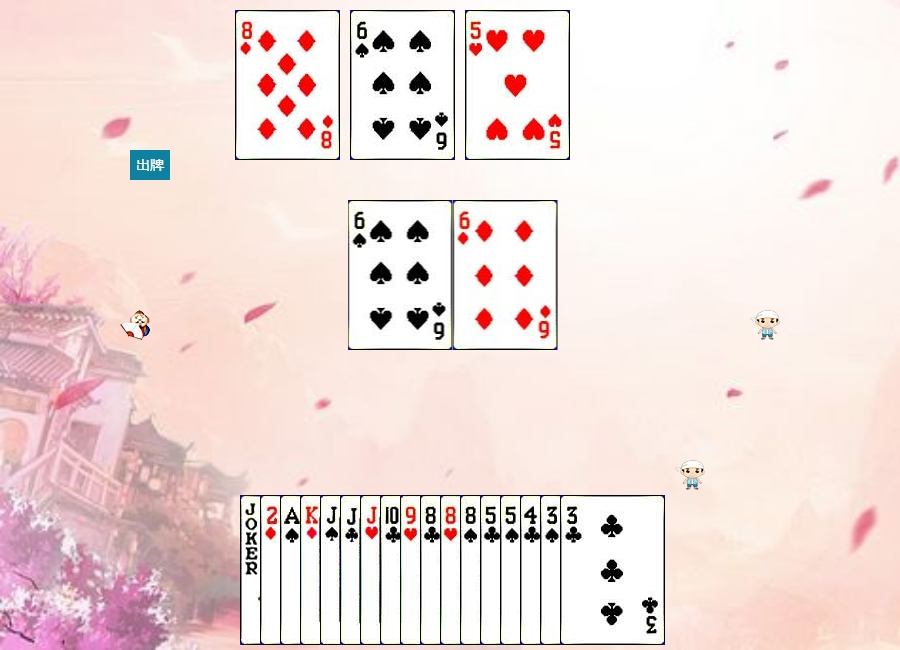10~2: (380, 495, 485, 645)
11~2: (340, 495, 445, 645)
11~3: (360, 495, 465, 645)
11~4: (320, 495, 425, 645)
13~1: (300, 495, 405, 645)
14~4: (280, 495, 385, 645)
15~1: (260, 495, 365, 645)
17~3: (240, 495, 345, 645)
3~2: (560, 495, 665, 645)
3~4: (540, 495, 645, 645)
4~2: (520, 495, 625, 645)
5~2: (480, 495, 585, 645)
5~3: (465, 10, 570, 160)
5~4: (500, 495, 605, 645)
6~1: (453, 200, 558, 350)
6~4: (350, 10, 455, 160), (348, 200, 453, 350)
8~1: (235, 10, 340, 160)
8~2: (420, 495, 525, 645)
8~3: (440, 495, 545, 645)
8~4: (460, 495, 565, 645)
9~3: (400, 495, 505, 645)
